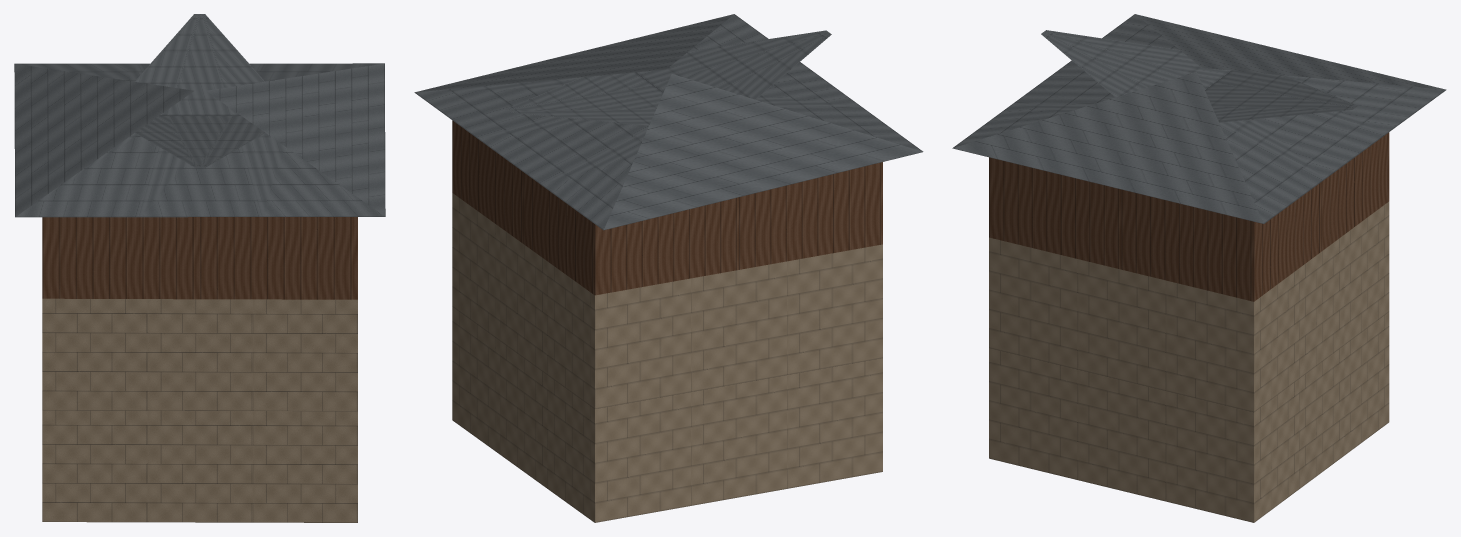
The model's file is bld_c-30_-19_718.gltf.
The picture shows the model from 3 angles, left to right: view 1: azimuth 30°, elevation 25°; view 2: azimuth 150°, elevation 25°; view 3: azimuth 270°, elevation 25°; orthographic projection. The views are drawn at different scales.
Visible parts, largest first — view 1: bld_c-30_-19_718; view 2: bld_c-30_-19_718; view 3: bld_c-30_-19_718.
Part boxes in pixels (<box>): bld_c-30_-19_718: <box>14,14,385,522</box>; bld_c-30_-19_718: <box>414,14,923,522</box>; bld_c-30_-19_718: <box>952,14,1446,522</box>.
Bounding box in the file's own units: 9.17 × 7.4 × 9.13.
Materials: 3 (3 with a texture image).
